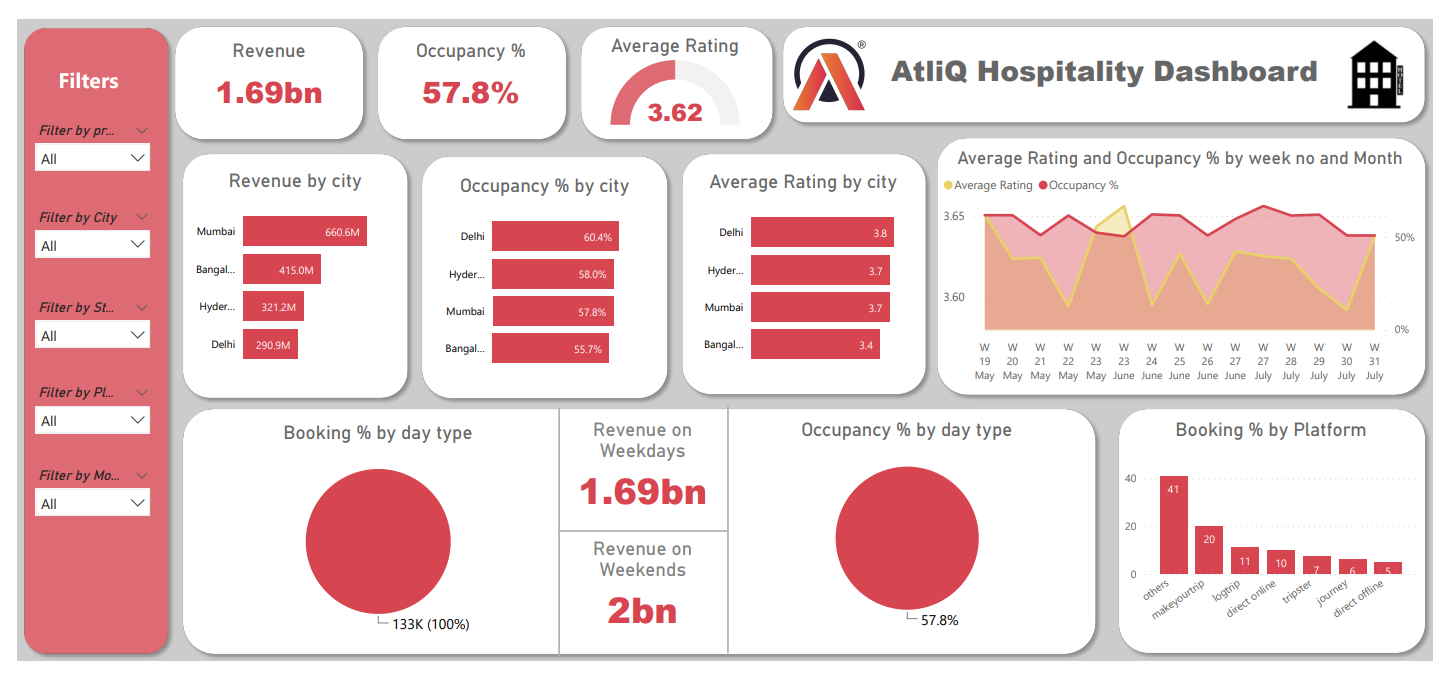

The page's visual inventory and layout, read from the dashboard file:
{"tool":"powerbi","page":{"name":"Duplicate of Dashboard","canvas":[1800,1100],"ordinal":3},"visuals":[{"type":"shape","box":[0,0,1800,83.3],"z":0},{"type":"group","id":"g1","title":"statement","box":[29.4,209.7,566.4,284.3],"z":0,"group":"g4"},{"type":"tableEx","fields":{"Values":["key_measures.Revenue WoW change %"]},"box":[72.7,266.4,105,60],"z":0,"group":"g2"},{"type":"tableEx","fields":{"Values":["key_measures.Realisation WoW change %"]},"box":[465.6,434,130,59],"z":0,"group":"g1"},{"type":"shape","box":[50.8,503.5,533.3,70],"z":0,"group":"g3"},{"type":"shape","box":[1097.2,190,688.3,301.7],"z":1000},{"type":"group","id":"g2","title":"RRD group","box":[29.4,209.7,563.8,116.7],"z":1000,"group":"g1"},{"type":"card","title":"Revenue","fields":{"Values":["key_measures.Revenue"]},"box":[29.4,213.7,171.7,83.3],"z":1000,"group":"g2"},{"type":"group","id":"g3","title":"Group 1","box":[50.8,503.5,533.3,165],"z":1000,"group":"g4"},{"type":"tableEx","fields":{"Values":["dim_date.day_type","key_measures.RevPAR","key_measures.Occupancy %","key_measures.ADR","key_measures.Realisation %"]},"box":[87.5,546.8,463.3,121.7],"z":1000,"group":"g3"},{"type":"shape","box":[633.9,190,453.3,301.7],"z":2000},{"type":"tableEx","fields":{"Values":["key_measures.Revpar WoW change %"]},"box":[274.7,266.2,105.5,58.9],"z":2000,"group":"g2"},{"type":"card","title":"Realisation %","fields":{"Values":["key_measures.Realisation %"]},"box":[421.8,371.7,174,93],"z":2000,"group":"g1"},{"type":"tableEx","fields":{"Values":["key_measures.DSRN WoW change %"]},"box":[473.2,266.7,106,58],"z":3000,"group":"g2"},{"type":"tableEx","fields":{"Values":["key_measures.ADR WoW change %"]},"box":[282.1,432.7,105,61],"z":3000,"group":"g1"},{"type":"shape","box":[630.6,500,1155,493.3],"z":3000},{"type":"card","title":"RevPre","fields":{"Values":["key_measures.RevPAR"]},"box":[228.7,210.7,168,87],"z":4000,"group":"g2"},{"type":"card","title":"ADR","fields":{"Values":["key_measures.ADR"]},"box":[234.3,371.7,163,93],"z":4000,"group":"g1"},{"type":"shape","box":[16.7,693.3,596.7,300],"z":4000},{"type":"shape","box":[632.2,102,1155,80],"z":5000},{"type":"card","title":"DSRN","fields":{"Values":["key_measures.DSRN"]},"box":[425.2,209.7,168,87],"z":5000,"group":"g2"},{"type":"tableEx","fields":{"Values":["key_measures.Occupancy WoW change %"]},"box":[79.8,432.7,123.9,61.3],"z":5000,"group":"g1"},{"type":"shape","box":[15,103.3,596.7,80],"z":6000},{"type":"card","title":"Occupancy","fields":{"Values":["key_measures.Occupancy %"]},"box":[48.8,370.7,161,93],"z":6000,"group":"g1"},{"type":"shape","box":[16.7,191.7,596.7,490],"z":7000},{"type":"tableEx","title":"Property By Key Matrices","fields":{"Values":["dim_hotals.property_id","dim_hotals.property_name","dim_hotals.city","key_measures.Revenue","key_measures.Total Bookings","key_measures.RevPAR","key_measures.Occupancy %","key_measures.ADR","key_measures.DBRN","key_measures.DSRN","key_measures.DURN","key_measures.Realisation %"]},"box":[641.7,516.7,1120,450],"z":8000},{"type":"lineStackedColumnComboChart","title":"Realisation % and ADR  By Platform Booking","fields":{"Category":["fact_booking.booking_platform"],"Y":["key_measures.Realisation %"],"Y2":["key_measures.ADR"]},"box":[28.3,711.7,573.3,278.3],"z":10000},{"type":"group","id":"g4","title":"Group 2","box":[29.4,209.7,566.4,458.8],"z":11000},{"type":"donutChart","fields":{"Y":["key_measures.Revenue"],"Category":["dim_hotals.category"]},"box":[641.7,200,440,281.7],"z":12000},{"type":"lineChart","title":"Trends By Key Matrics","fields":{"Category":["dim_date.mmm yy.Variation.Date Hierarchy.Month","dim_date.week no"],"Y":["key_measures.RevPAR","key_measures.ADR"],"Y2":["key_measures.Occupancy %"]},"box":[1108.9,205,653.3,276.7],"z":13000},{"type":"slicer","fields":{"Values":["dim_hotals.city"]},"box":[51.7,113.3,198.3,61.7],"z":14000},{"type":"slicer","fields":{"Values":["dim_rooms.room_class"]},"box":[335,113.3,210,61.7],"z":15000},{"type":"slicer","fields":{"Values":["dim_date.mmm yy"]},"box":[637.2,108.7,305,61.7],"z":16000},{"type":"slicer","fields":{"Values":["dim_date.week no"]},"box":[1018.9,110,761.7,61.7],"z":17000},{"type":"shape","box":[20,1005,1763.3,83.3],"z":18000},{"type":"textbox","box":[275,1028.3,1300,45],"z":19000},{"type":"textbox","box":[613.3,0,746.7,83.3],"z":19500}]}

Visuals, with their boxes on the page's 1800x1100 design canvas (x1, y1, x2, y2). These are canvas units, not pixel positions in the 1454x680 screenshot, which may show the page scaled, cropped or inside an application window:
shape: left=0, top=0, right=1800, bottom=83
"statement" group: left=29, top=210, right=596, bottom=494
tableEx - key_measures.Revenue WoW change %: left=73, top=266, right=178, bottom=326
tableEx - key_measures.Realisation WoW change %: left=466, top=434, right=596, bottom=493
shape: left=51, top=504, right=584, bottom=574
shape: left=1097, top=190, right=1786, bottom=492
"RRD group" group: left=29, top=210, right=593, bottom=326
"Revenue" card: left=29, top=214, right=201, bottom=297
"Group 1" group: left=51, top=504, right=584, bottom=668
tableEx - dim_date.day_type x key_measures.RevPAR: left=88, top=547, right=551, bottom=668
shape: left=634, top=190, right=1087, bottom=492
tableEx - key_measures.Revpar WoW change %: left=275, top=266, right=380, bottom=325
"Realisation %" card: left=422, top=372, right=596, bottom=465
tableEx - key_measures.DSRN WoW change %: left=473, top=267, right=579, bottom=325
tableEx - key_measures.ADR WoW change %: left=282, top=433, right=387, bottom=494
shape: left=631, top=500, right=1786, bottom=993
"RevPre" card: left=229, top=211, right=397, bottom=298
"ADR" card: left=234, top=372, right=397, bottom=465
shape: left=17, top=693, right=613, bottom=993
shape: left=632, top=102, right=1787, bottom=182
"DSRN" card: left=425, top=210, right=593, bottom=297
tableEx - key_measures.Occupancy WoW change %: left=80, top=433, right=204, bottom=494
shape: left=15, top=103, right=612, bottom=183
"Occupancy" card: left=49, top=371, right=210, bottom=464
shape: left=17, top=192, right=613, bottom=682
"Property By Key Matrices" tableEx: left=642, top=517, right=1762, bottom=967
"Realisation % and ADR  By Platform Booking" lineStackedColumnComboChart: left=28, top=712, right=602, bottom=990
"Group 2" group: left=29, top=210, right=596, bottom=668
donutChart - key_measures.Revenue x dim_hotals.category: left=642, top=200, right=1082, bottom=482
"Trends By Key Matrics" lineChart: left=1109, top=205, right=1762, bottom=482
slicer - dim_hotals.city: left=52, top=113, right=250, bottom=175
slicer - dim_rooms.room_class: left=335, top=113, right=545, bottom=175
slicer - dim_date.mmm yy: left=637, top=109, right=942, bottom=170
slicer - dim_date.week no: left=1019, top=110, right=1781, bottom=172
shape: left=20, top=1005, right=1783, bottom=1088
textbox: left=275, top=1028, right=1575, bottom=1073
textbox: left=613, top=0, right=1360, bottom=83
